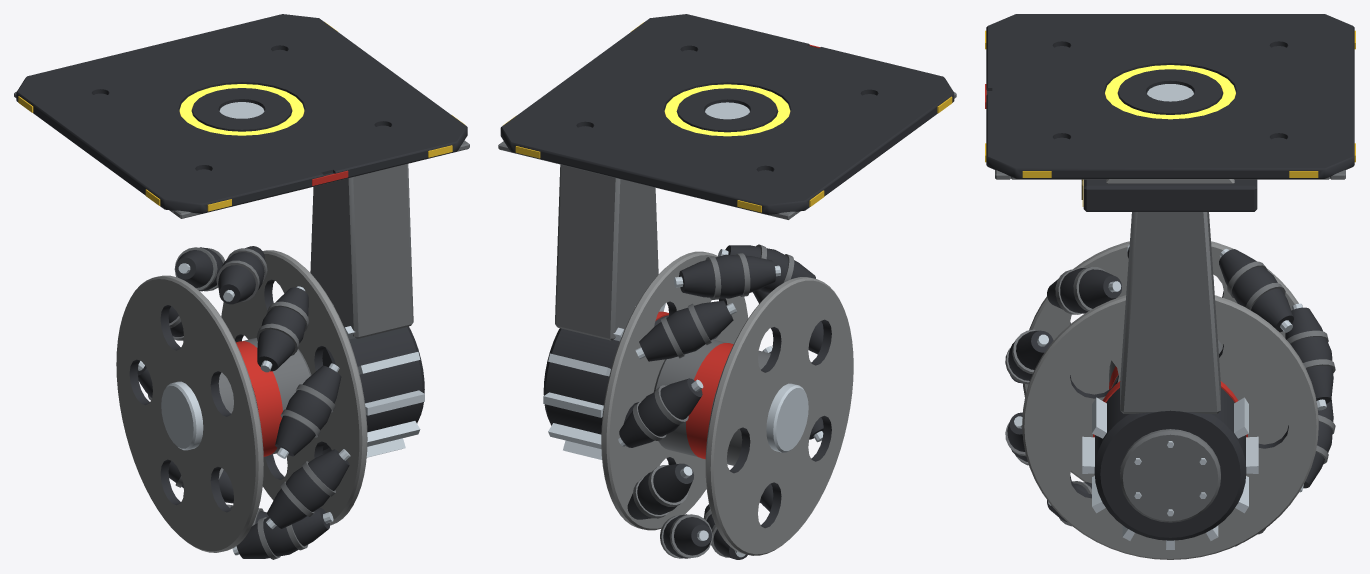
Rendered from R4M_OmniDrive.glb.
The picture shows the model from 3 angles, left to right: view 1: azimuth 30°, elevation 25°; view 2: azimuth 150°, elevation 25°; view 3: azimuth 270°, elevation 25°; orthographic projection. The views are drawn at different scales.
Visible parts, largest first — view 1: R4M_OmniDrive_MotorPod, R4M_OmniDrive_Hub, R4M_OmniDrive_Roller_10, R4M_OmniDrive_Roller_01, R4M_OmniDrive_Roller_02, R4M_OmniDrive_Roller_09, R4M_OmniDrive_Roller_03, R4M_OmniDrive_Roller_04, R4M_OmniDrive_Roller_07; view 2: R4M_OmniDrive_MotorPod, R4M_OmniDrive_Hub, R4M_OmniDrive_Roller_04, R4M_OmniDrive_Roller_03, R4M_OmniDrive_Roller_05, R4M_OmniDrive_Roller_06, R4M_OmniDrive_Roller_07, R4M_OmniDrive_Roller_02, R4M_OmniDrive_Roller_08; view 3: R4M_OmniDrive_MotorPod, R4M_OmniDrive_Hub, R4M_OmniDrive_Roller_04, R4M_OmniDrive_Roller_05, R4M_OmniDrive_Roller_02, R4M_OmniDrive_Roller_01, R4M_OmniDrive_Roller_06, R4M_OmniDrive_Roller_10.
Part boxes in pixels (box(x1,y1,x2,y2)): R4M_OmniDrive_MotorPod: box(14, 14, 469, 457); R4M_OmniDrive_Hub: box(116, 250, 367, 552); R4M_OmniDrive_Roller_10: box(266, 449, 350, 529); R4M_OmniDrive_Roller_01: box(275, 363, 341, 458); R4M_OmniDrive_Roller_02: box(256, 286, 309, 372); R4M_OmniDrive_Roller_09: box(232, 508, 333, 559); R4M_OmniDrive_Roller_03: box(216, 246, 267, 304); R4M_OmniDrive_Roller_04: box(174, 247, 225, 291); R4M_OmniDrive_Roller_07: box(168, 461, 233, 503); R4M_OmniDrive_MotorPod: box(498, 14, 956, 459); R4M_OmniDrive_Hub: box(601, 251, 853, 555); R4M_OmniDrive_Roller_04: box(635, 300, 736, 361); R4M_OmniDrive_Roller_03: box(674, 253, 780, 299); R4M_OmniDrive_Roller_05: box(618, 378, 703, 447); R4M_OmniDrive_Roller_06: box(627, 463, 693, 519); R4M_OmniDrive_Roller_07: box(660, 514, 712, 558); R4M_OmniDrive_Roller_02: box(718, 244, 815, 292); R4M_OmniDrive_Roller_08: box(704, 504, 747, 559); R4M_OmniDrive_MotorPod: box(985, 14, 1355, 549); R4M_OmniDrive_Hub: box(1022, 241, 1318, 559); R4M_OmniDrive_Roller_04: box(1219, 249, 1293, 332); R4M_OmniDrive_Roller_05: box(1285, 303, 1335, 410); R4M_OmniDrive_Roller_02: box(1047, 267, 1121, 314); R4M_OmniDrive_Roller_01: box(1005, 329, 1053, 384); R4M_OmniDrive_Roller_06: box(1299, 399, 1335, 492); R4M_OmniDrive_Roller_10: box(1005, 412, 1028, 465).
Size of the model in its own units: 0.5223 by 0.702 by 0.5126.
